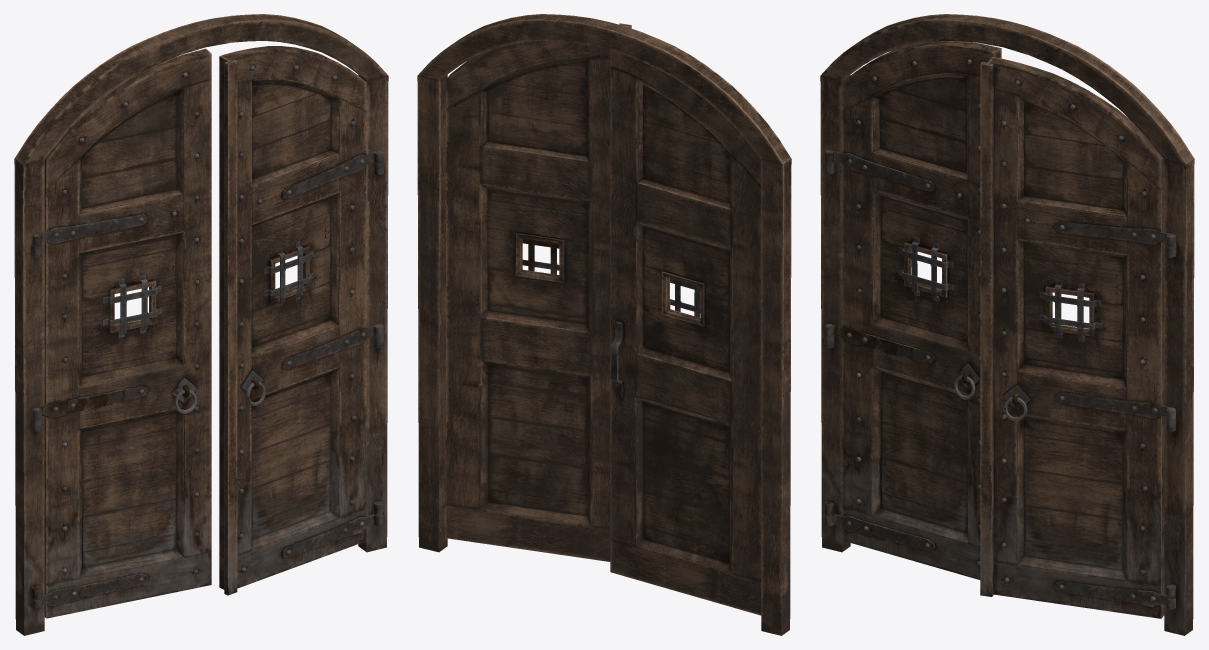
Rendered from castle_door.glb.
3 renders of one model, left to right at view 1: azimuth 30°, elevation 25°; view 2: azimuth 150°, elevation 25°; view 3: azimuth 330°, elevation 25°, orthographic.
Parts seen in each view (by area): view 1: large_castle_door_frame; view 2: large_castle_door_frame; view 3: large_castle_door_frame.
Part boxes in pixels (x1,y1,x2,y2): large_castle_door_frame: [14, 14, 388, 635]; large_castle_door_frame: [417, 14, 791, 635]; large_castle_door_frame: [820, 14, 1194, 635].
Size of the model in its own units: 2.01 by 2.96 by 0.2964.
Materials: 1 (1 with a texture image).
